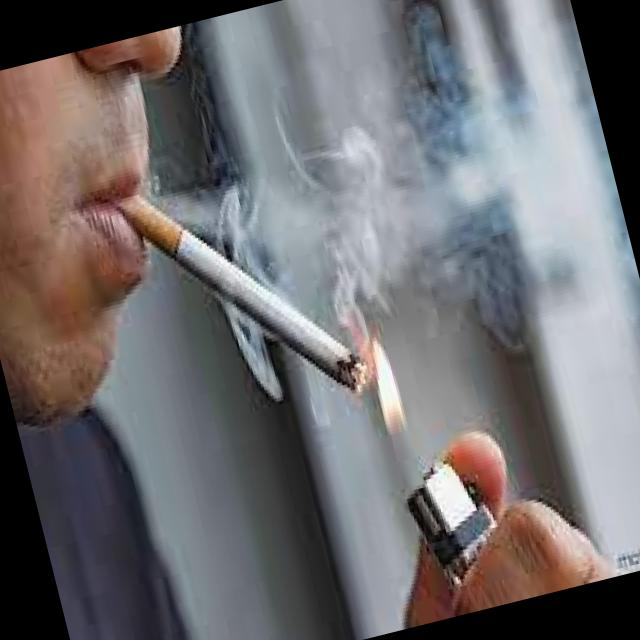cigarette: (113, 146, 376, 444)
